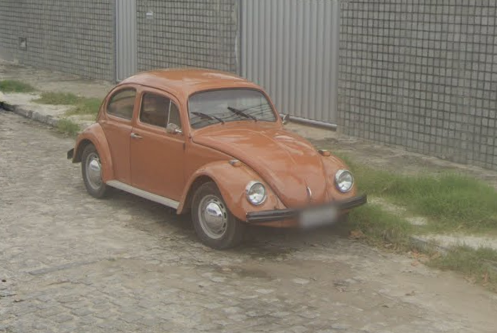car: (64, 66, 368, 249)
